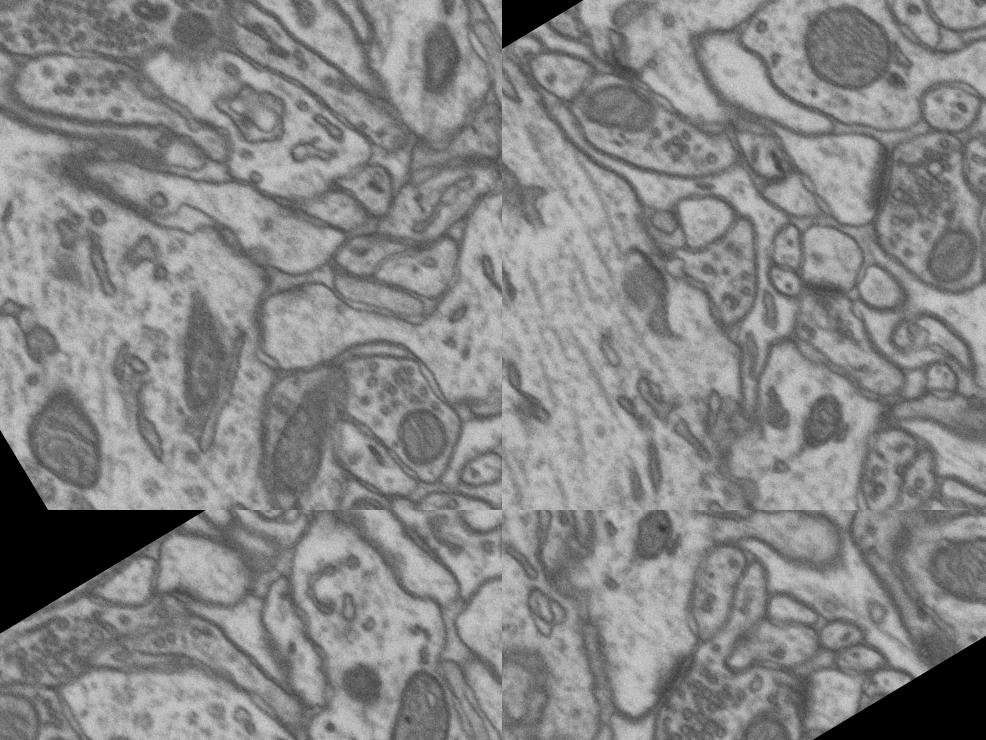mitochondria: (221, 356, 389, 510), (127, 272, 278, 430), (0, 364, 138, 510), (775, 0, 919, 113), (336, 653, 493, 740), (384, 3, 496, 117), (903, 510, 986, 650), (548, 46, 654, 152), (376, 388, 477, 491), (763, 391, 854, 477), (914, 182, 986, 282), (145, 0, 232, 73), (681, 693, 808, 740), (610, 510, 692, 577), (0, 662, 66, 740), (314, 476, 425, 510)
